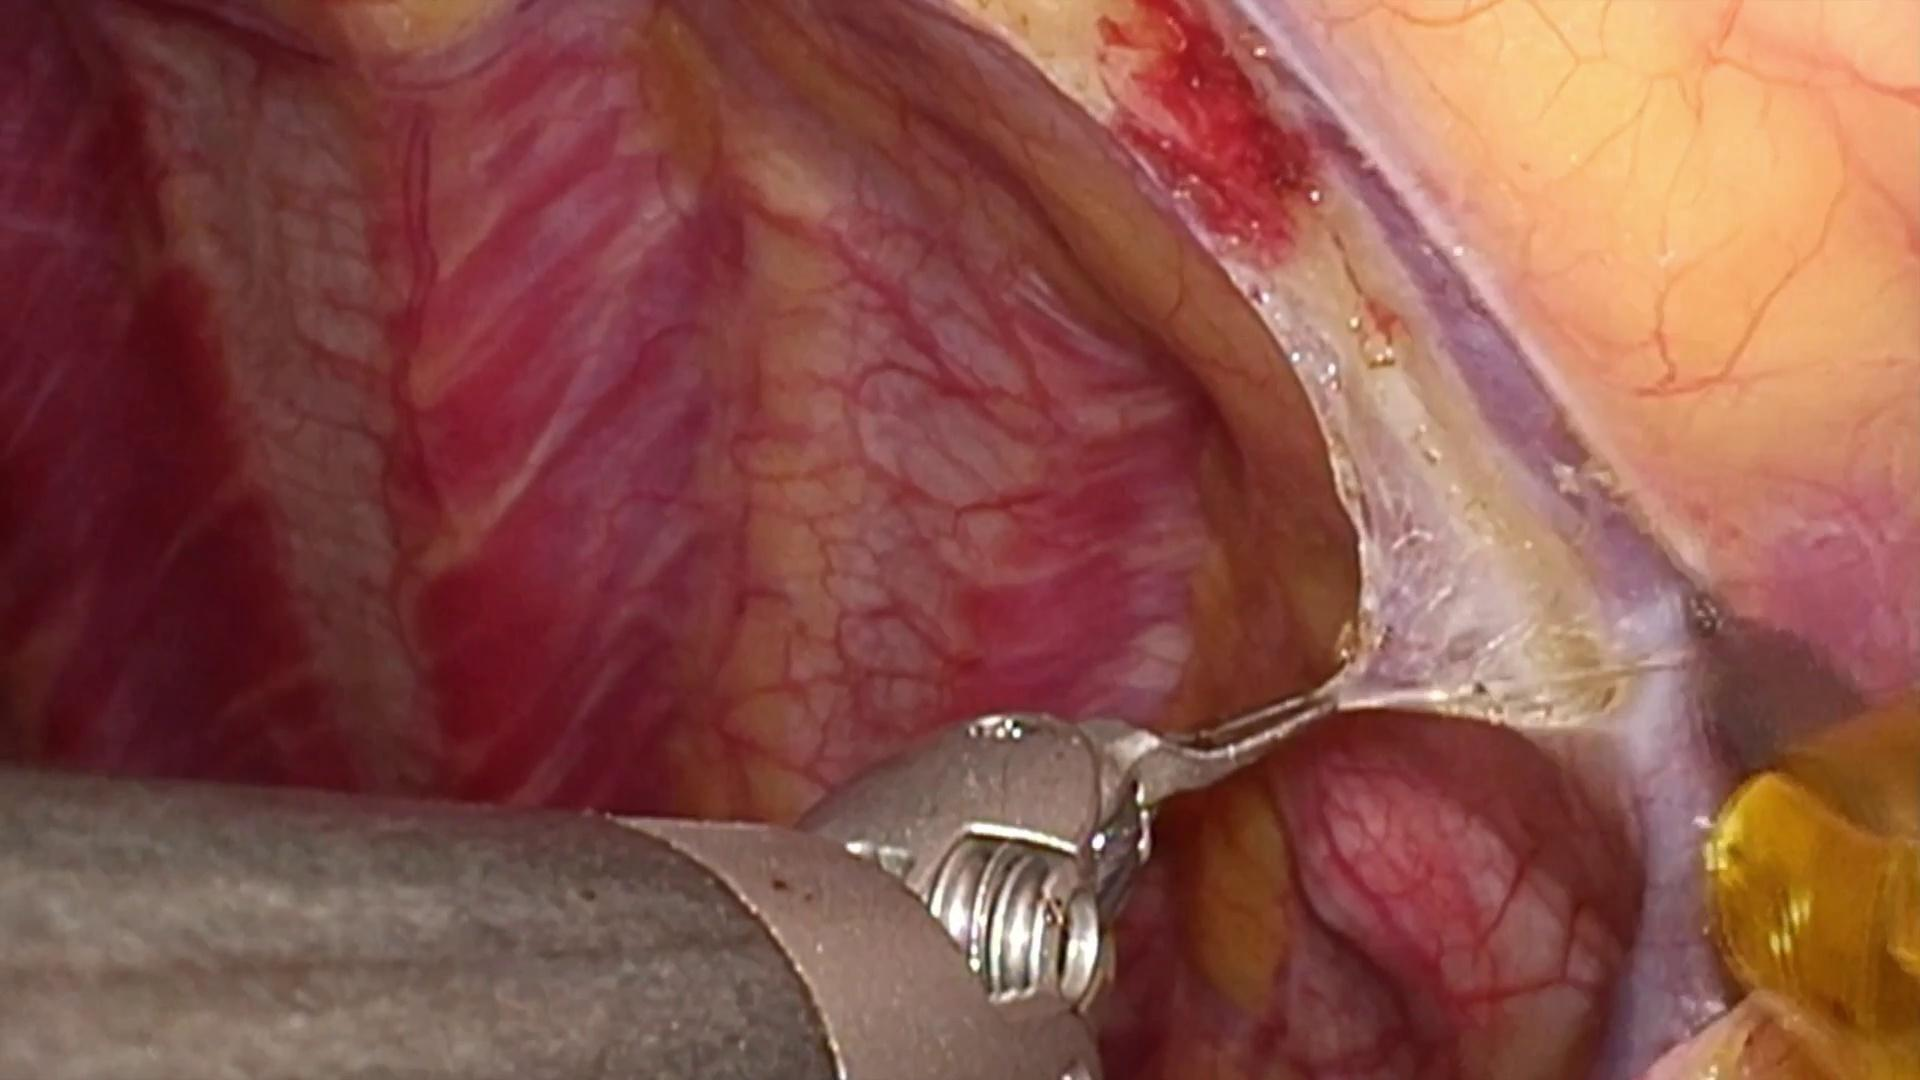Cautery_Spatula: (1664, 580, 1876, 785)
Debakey: (1056, 653, 1329, 858)
